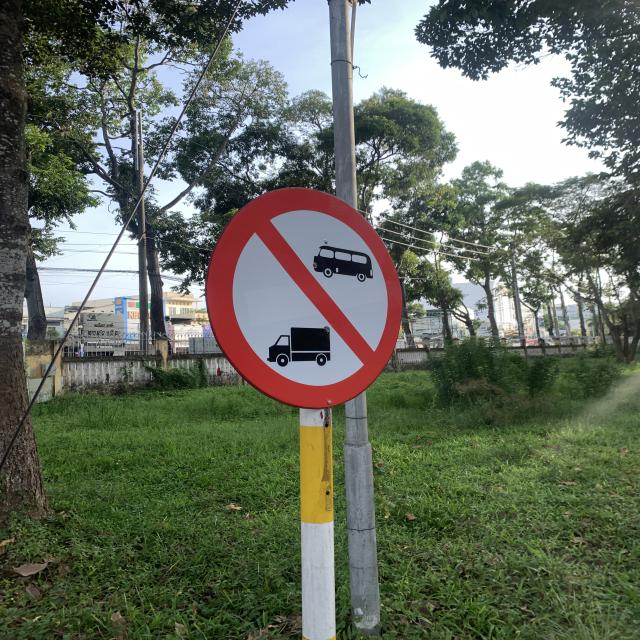Cam_XeTai_XeKhach: (198, 186, 405, 408)
